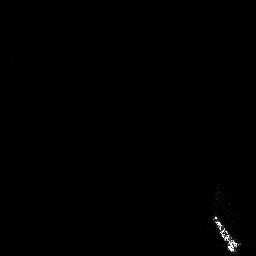ship: (212, 214, 241, 251)
